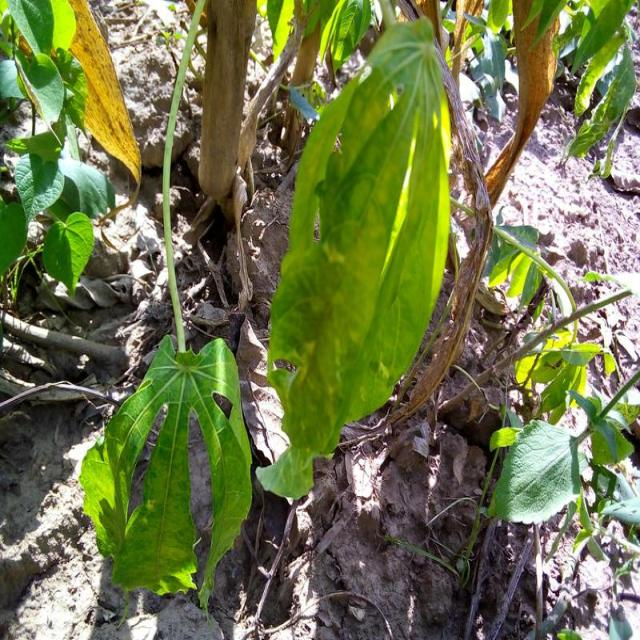cassava leaf: (253, 15, 452, 500), (78, 332, 253, 613), (487, 417, 586, 525)
